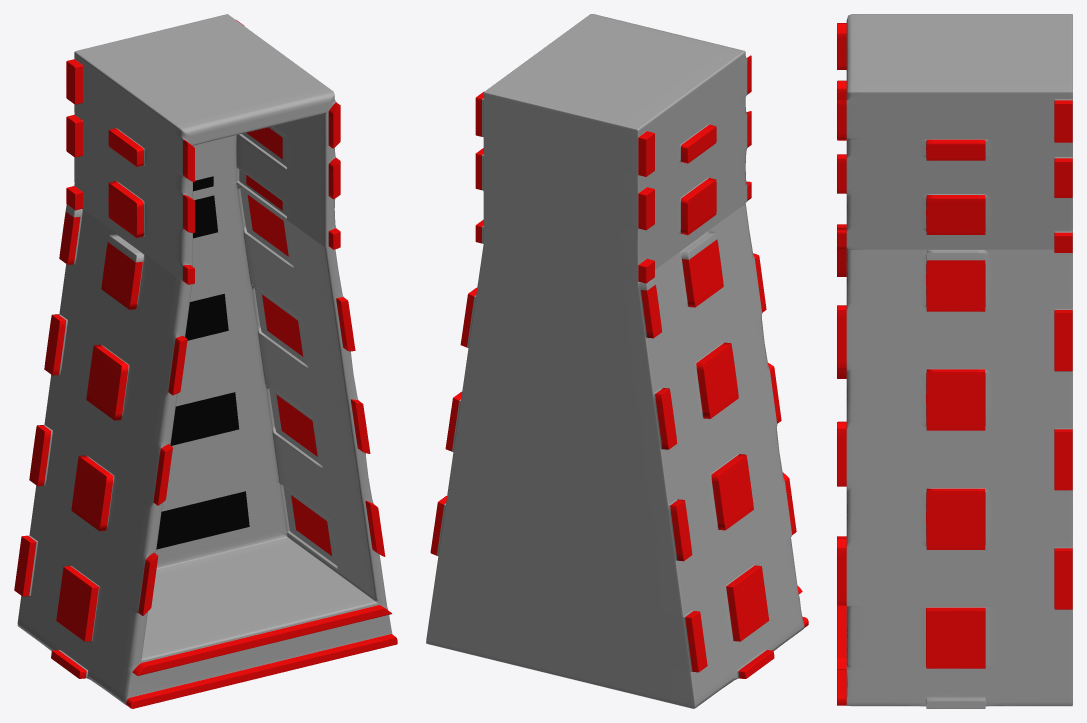
The model's file is Cabin_01.fbx.
3 renders of one model, left to right at view 1: azimuth 30°, elevation 25°; view 2: azimuth 150°, elevation 25°; view 3: azimuth 270°, elevation 25°, orthographic. The views are drawn at different scales.
Parts seen in each view (by area): view 1: Cryo:pCube1; view 2: Cryo:pCube1; view 3: Cryo:pCube1.
Part boxes in pixels (x1,y1,x2,y2): Cryo:pCube1: [14, 14, 397, 708]; Cryo:pCube1: [426, 14, 808, 708]; Cryo:pCube1: [837, 14, 1072, 708].
Size of the model in its own units: 1.06 by 2 by 0.7299.
